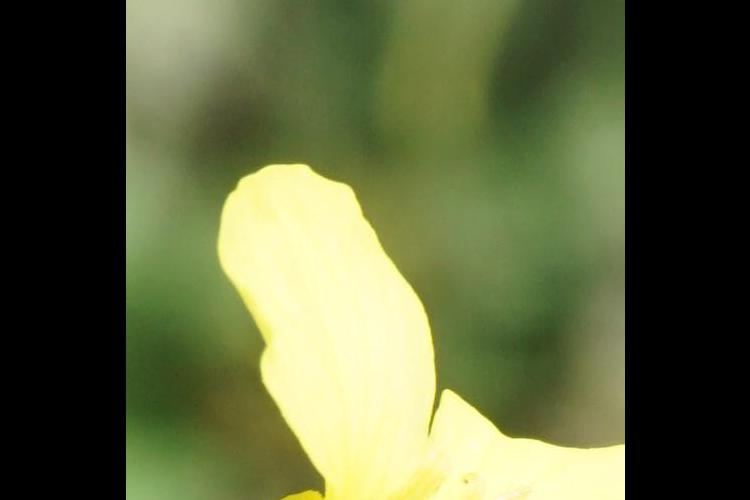yellow: (130, 155, 621, 500)
